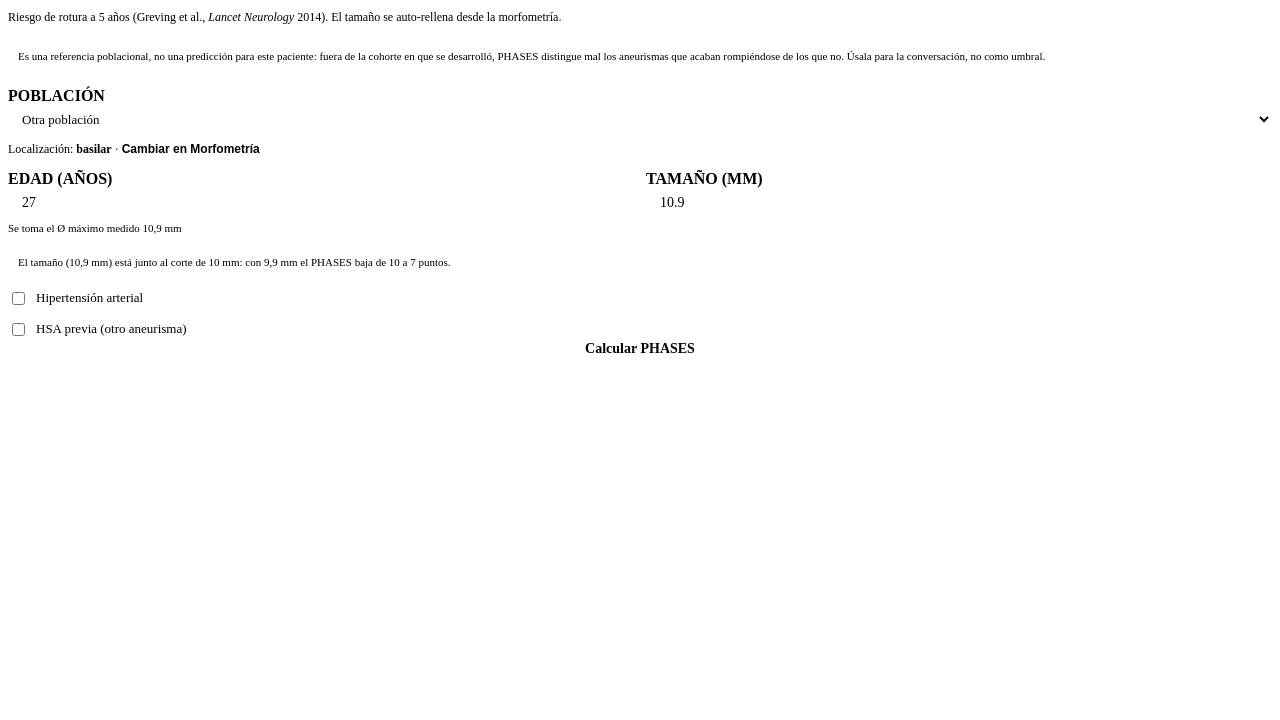
PHASES y el corte de tamaño › el resultado se rotula con la tabla publicada
Click the button "Calcular PHASES". click: (640, 348)
box: x1=8 y1=340 x2=1272 y2=358
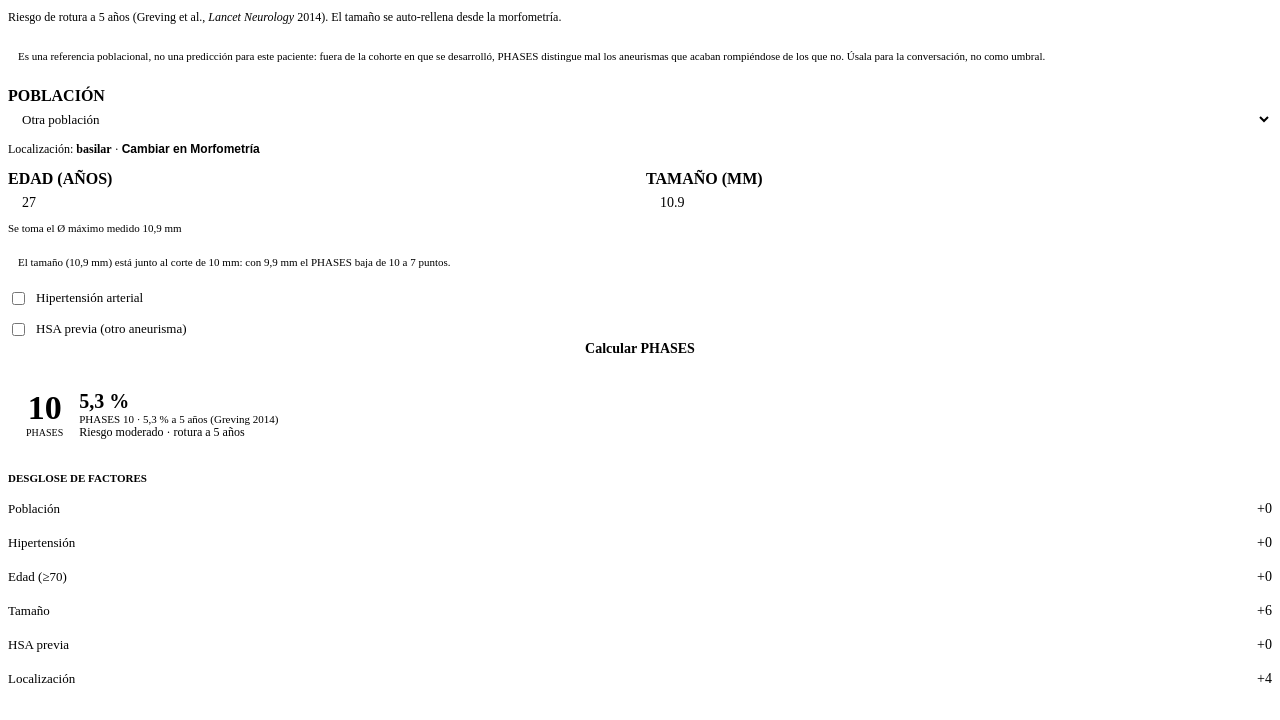
expect the text "PHASES 10 · 5,3 % a 5 años (Greving 2014)" is shown: met, box x1=79 y1=412 x2=278 y2=424
